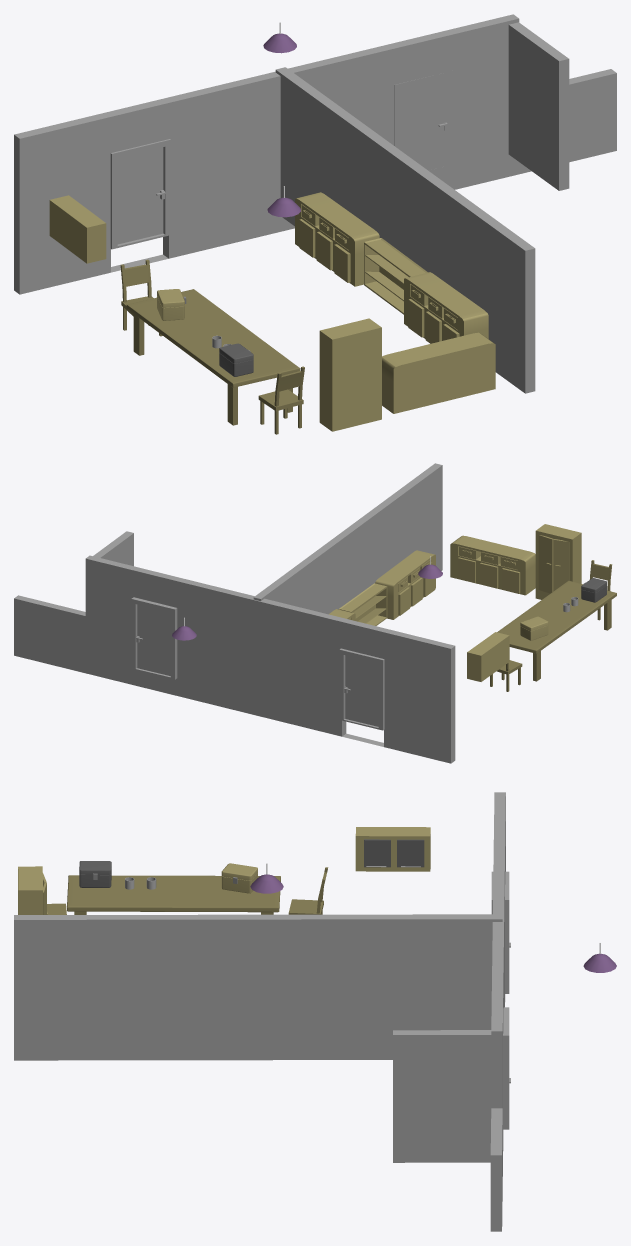
File: cave.fbx
The picture shows the model from 3 angles, top to bottom: view 1: azimuth 30°, elevation 25°; view 2: azimuth 150°, elevation 25°; view 3: azimuth 270°, elevation 25°; orthographic projection. The views are drawn at different scales.
Parts seen in each view (by area): view 1: mur_interieur1, mur_interieur, pCube18 (×3), mur_interieur2, table_a_manger1, Armoire, porte, cadre1 (×2), structure, meuble, chaise8, chaise9; view 2: mur_interieur1, mur_interieur, porte (×2), pCube18 (×2), table_a_manger1, cadre1 (×2), structure, Armoire, meuble, pCube2, mur_interieur2, pCube3 (+3 smaller); view 3: mur_interieur, mur_interieur2, table_a_manger1, mur_interieur1, structure, cadre1 (×2), Armoire, porte_gauche, porte_droite, chaise9.
Boxes of the visible parts, left/top/right/bottom form: mur_interieur1: left=14, top=14, right=616, bottom=294; mur_interieur: left=275, top=67, right=535, bottom=393; pCube18 (×3): left=295, top=192, right=495, bottom=413; mur_interieur2: left=508, top=22, right=569, bottom=190; table_a_manger1: left=126, top=289, right=299, bottom=425; Armoire: left=319, top=318, right=381, bottom=431; porte: left=117, top=147, right=163, bottom=244; cadre1 (×2): left=110, top=71, right=453, bottom=249; structure: left=49, top=195, right=106, bottom=263; meuble: left=364, top=238, right=427, bottom=314; chaise8: left=258, top=366, right=304, bottom=434; chaise9: left=120, top=259, right=162, bottom=336; mur_interieur1: left=14, top=555, right=455, bottom=763; mur_interieur: left=253, top=463, right=442, bottom=614; porte (×2): left=137, top=604, right=378, bottom=726; pCube18 (×2): left=375, top=535, right=535, bottom=619; table_a_manger1: left=497, top=580, right=616, bottom=681; cadre1 (×2): left=131, top=597, right=384, bottom=730; structure: left=467, top=632, right=509, bottom=681; Armoire: left=535, top=524, right=581, bottom=599; meuble: left=338, top=583, right=387, bottom=625; pCube2: left=538, top=535, right=553, bottom=593; mur_interieur2: left=93, top=531, right=133, bottom=566; pCube3: left=553, top=539, right=569, bottom=591; mur_interieur: left=14, top=914, right=502, bottom=1060; mur_interieur2: left=393, top=1030, right=491, bottom=1162; table_a_manger1: left=67, top=875, right=280, bottom=914; mur_interieur1: left=490, top=792, right=505, bottom=1231; structure: left=355, top=827, right=430, bottom=871; cadre1 (×2): left=491, top=871, right=509, bottom=1129; Armoire: left=18, top=866, right=42, bottom=914; porte_gauche: left=397, top=839, right=424, bottom=867; porte_droite: left=364, top=839, right=390, bottom=867; chaise9: left=288, top=867, right=328, bottom=914.
Size of the model in its own units: 772 by 195 by 684.
